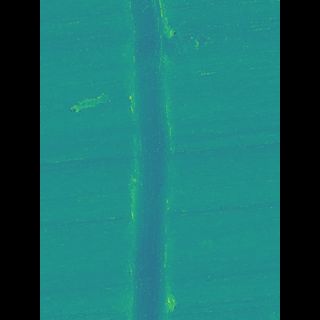Loch: (130, 0, 177, 320)
